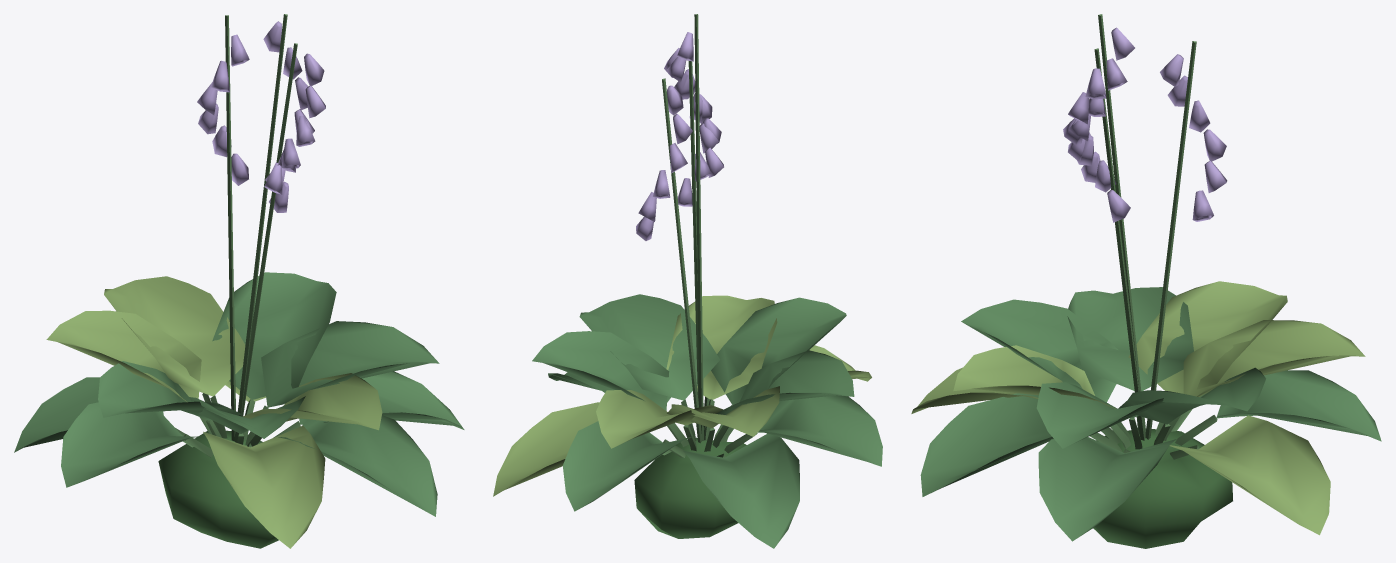
File: hosta.glb
The picture shows the model from 3 angles, left to right: view 1: azimuth 30°, elevation 25°; view 2: azimuth 150°, elevation 25°; view 3: azimuth 270°, elevation 25°; orthographic projection. The views are drawn at different scales.
Parts seen in each view (by area): view 1: hosta; view 2: hosta; view 3: hosta.
Part boxes in pixels (left/top/right/bottom): hosta: left=14, top=14, right=464, bottom=548; hosta: left=493, top=14, right=882, bottom=548; hosta: left=911, top=14, right=1381, bottom=548.
Size of the model in its own units: 0.621 by 0.842 by 0.675.
